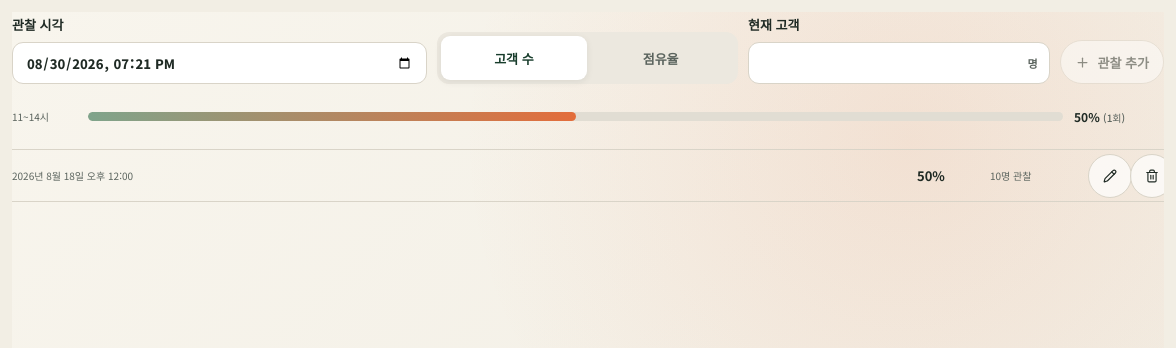
ObservationManager › retains an observation when its delete action transport fails
Click the button named "관찰 삭제" at (1147, 176), box top-left (1130, 154), bottom-right (1164, 198)
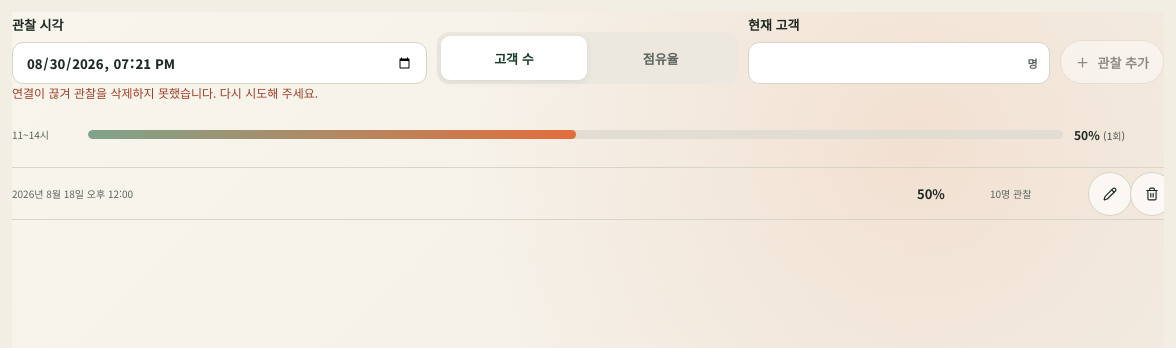
Expected: the text "50%" is shown, top-left (917, 184), bottom-right (945, 203)
Result: the message shows "관찰을 삭제하지 못했습니다" at top-left (12, 84), bottom-right (318, 101)
